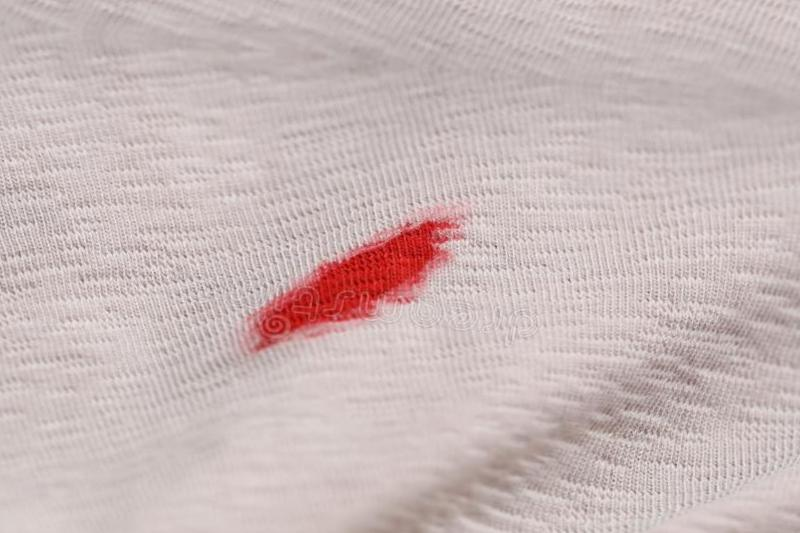stain: (249, 217, 461, 358)
